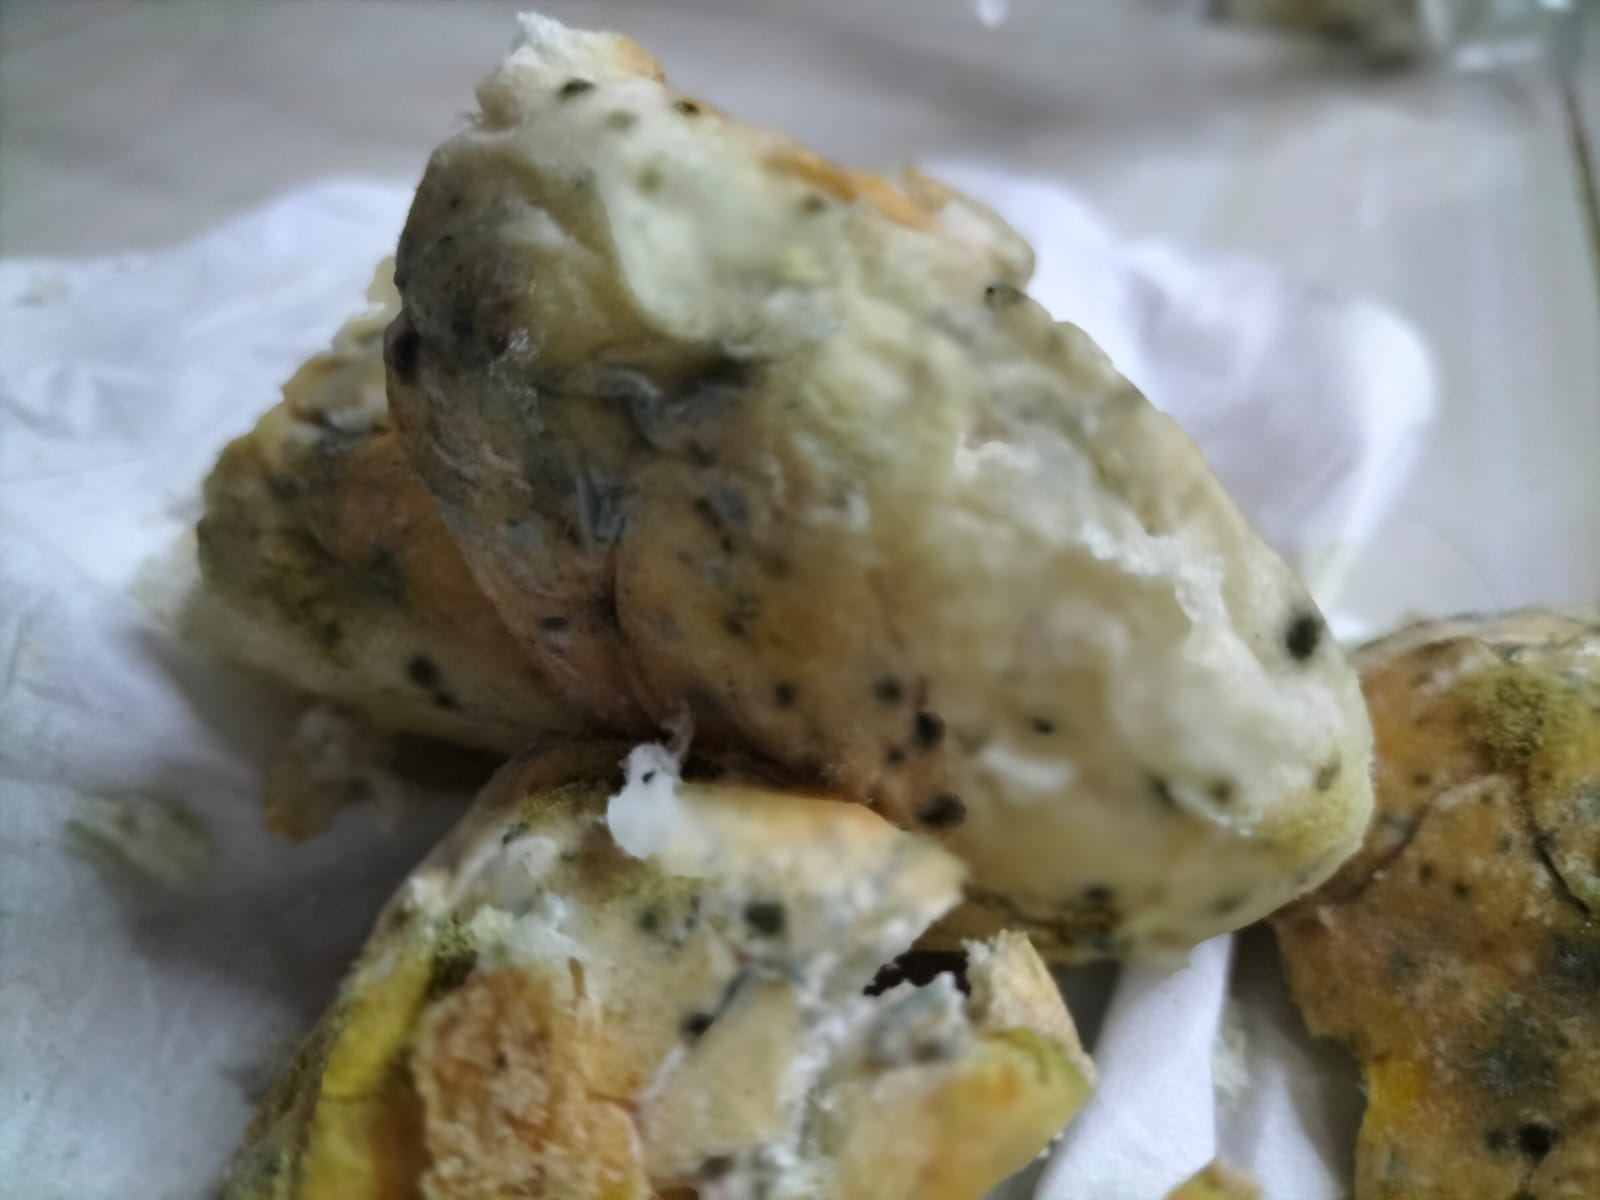mold_bread: (396, 170, 537, 397), (597, 328, 780, 463), (869, 671, 978, 842), (668, 494, 789, 635), (488, 770, 654, 855), (391, 892, 493, 1024), (1038, 874, 1143, 968), (616, 867, 707, 971), (389, 634, 479, 736), (728, 877, 821, 972), (1270, 592, 1335, 683), (970, 262, 1031, 325), (549, 50, 607, 112), (665, 89, 711, 129)
